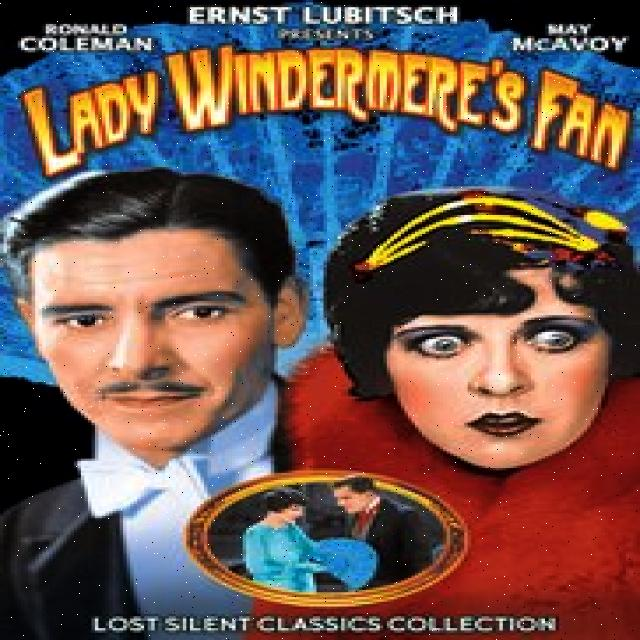movie-judul: (3, 35, 640, 174)
picture: (3, 2, 640, 639)
